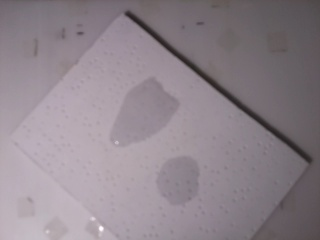Water_detected: (114, 80, 168, 136), (165, 160, 197, 190)
